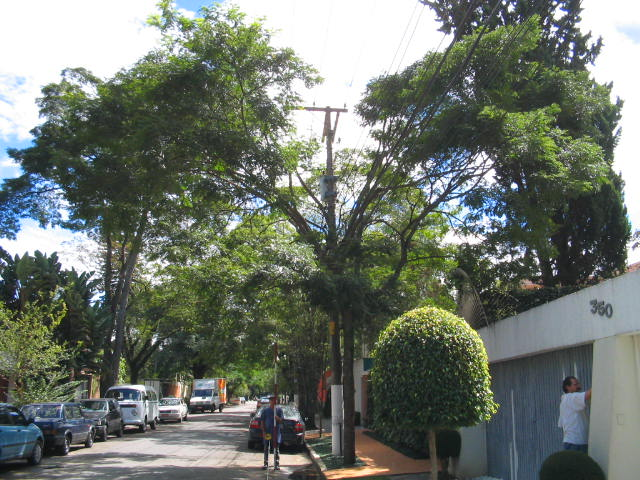crown: (11, 2, 616, 260)
stem: (339, 320, 361, 464)
stick: (266, 340, 282, 469)
tree: (8, 1, 616, 464)
